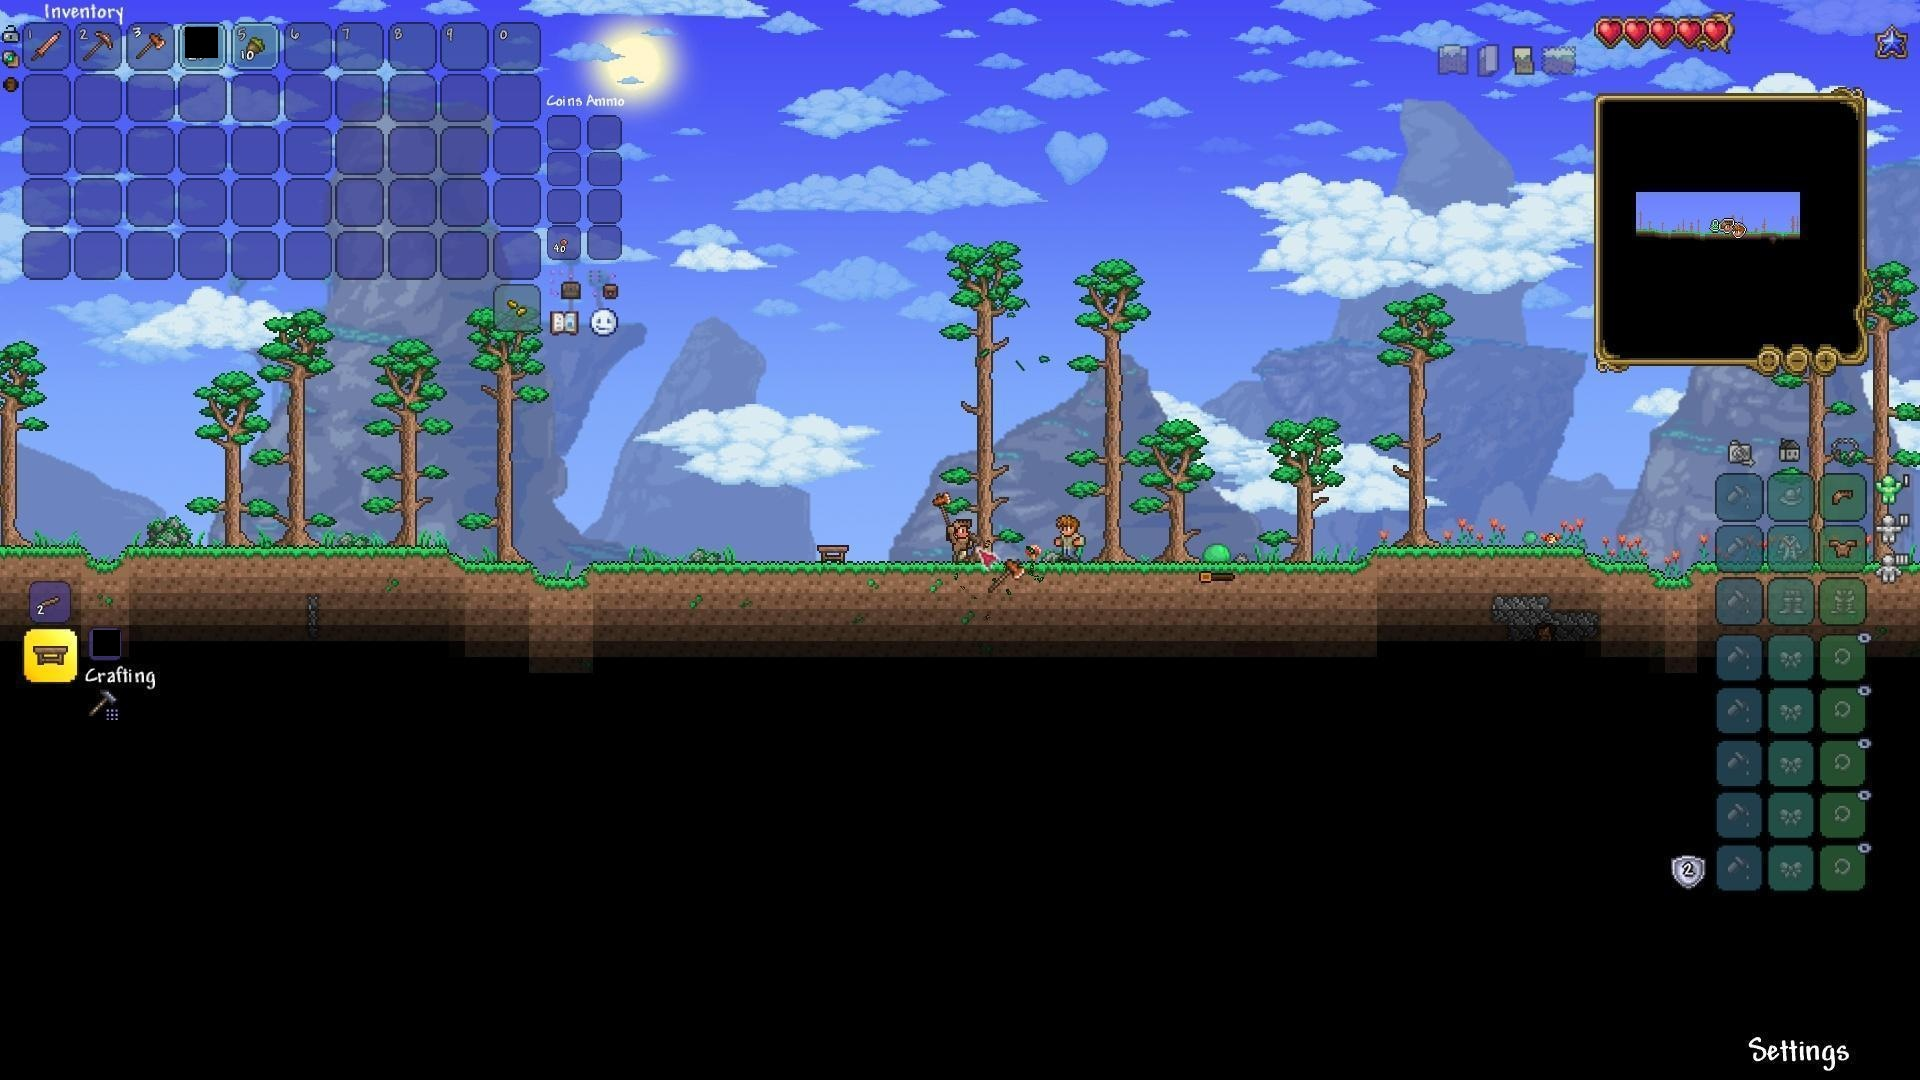breastplate: (1830, 538, 1859, 559)
helmet: (1828, 483, 1858, 509)
slime: (1203, 541, 1233, 564)
workbench: (32, 644, 69, 669), (815, 542, 852, 567)
